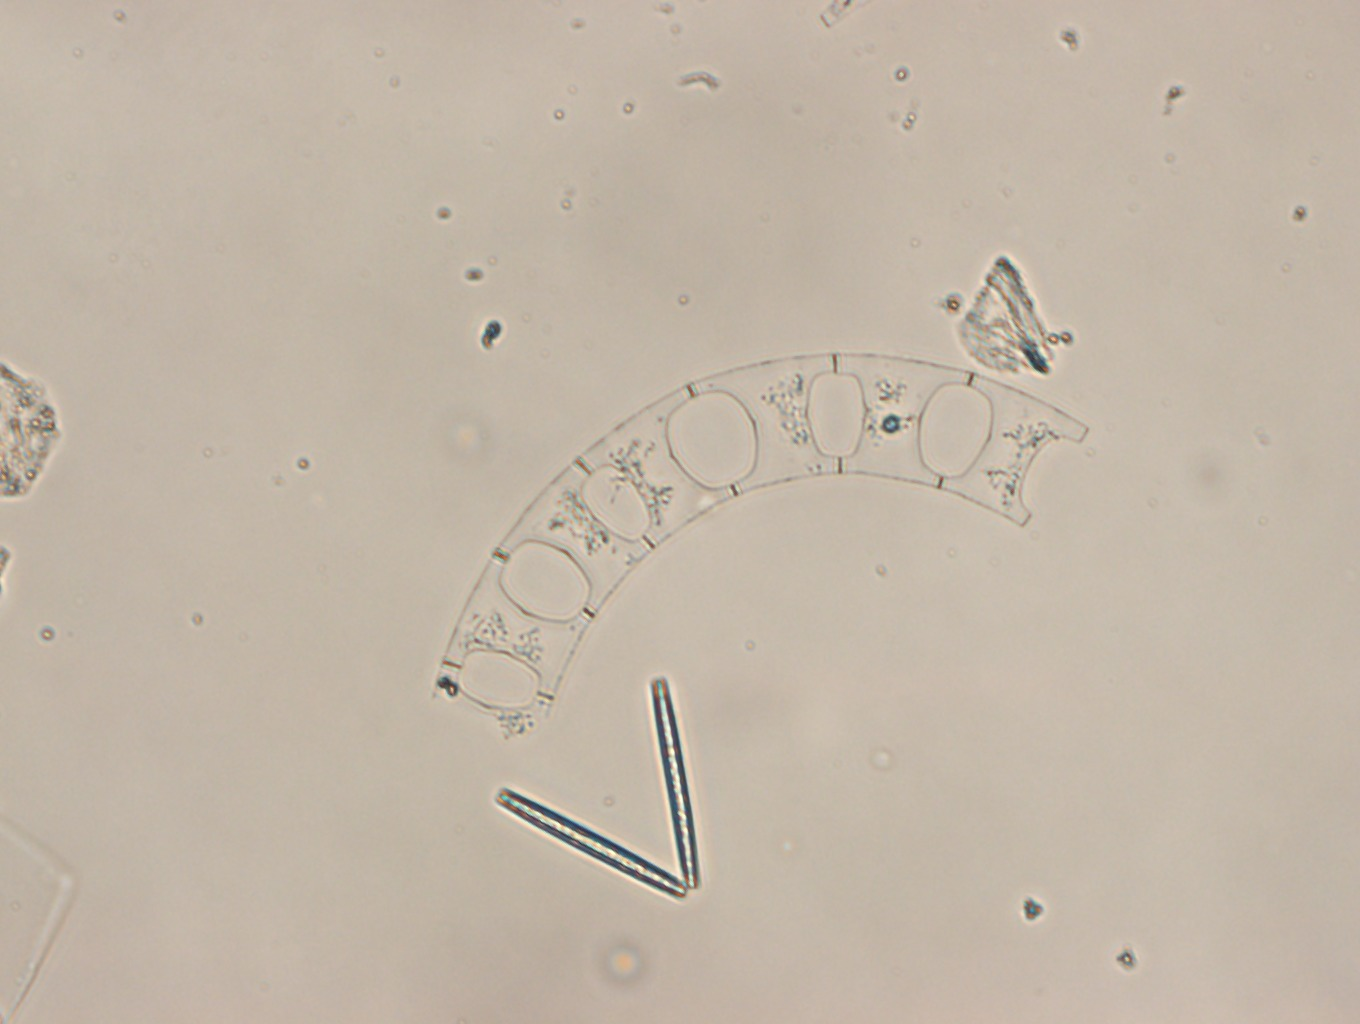eucampia: (432, 349, 1091, 742)
thalassionema nitzschioides: (493, 678, 704, 900)
